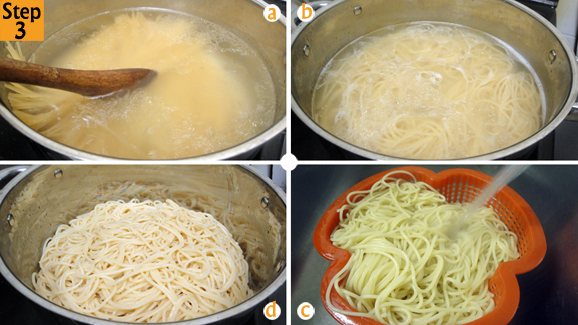plain spaghetti: (45, 208, 235, 293), (364, 202, 488, 304)
